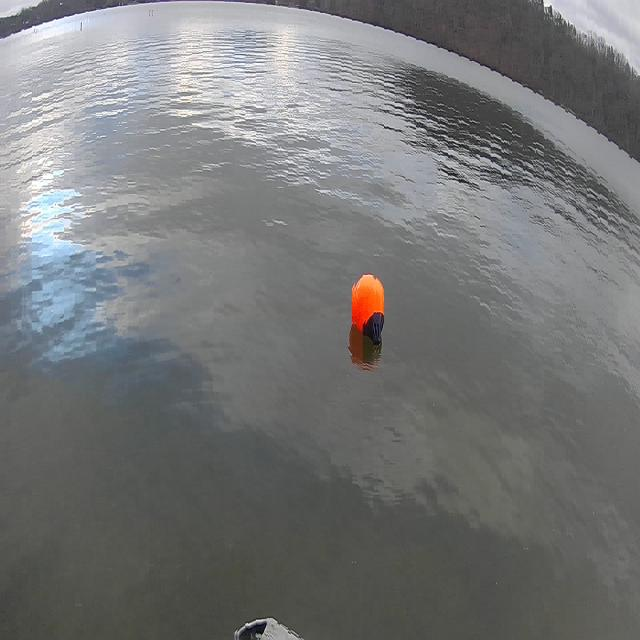Buoy: (347, 260, 389, 354)
